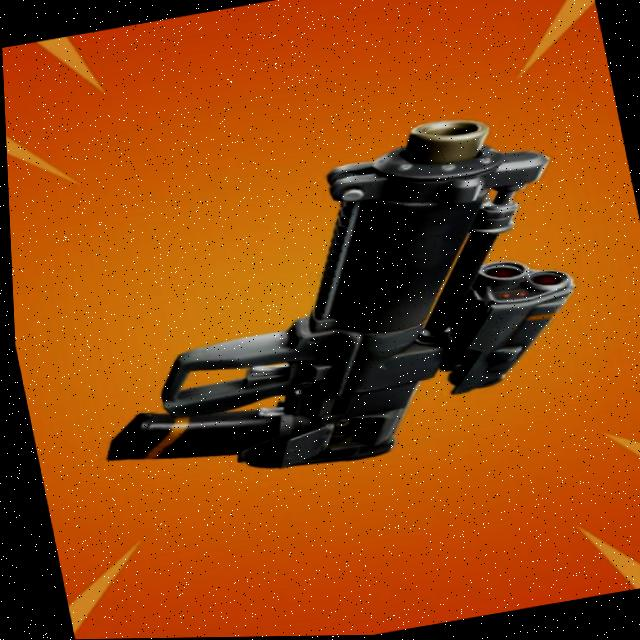firearm: (46, 103, 606, 502)
